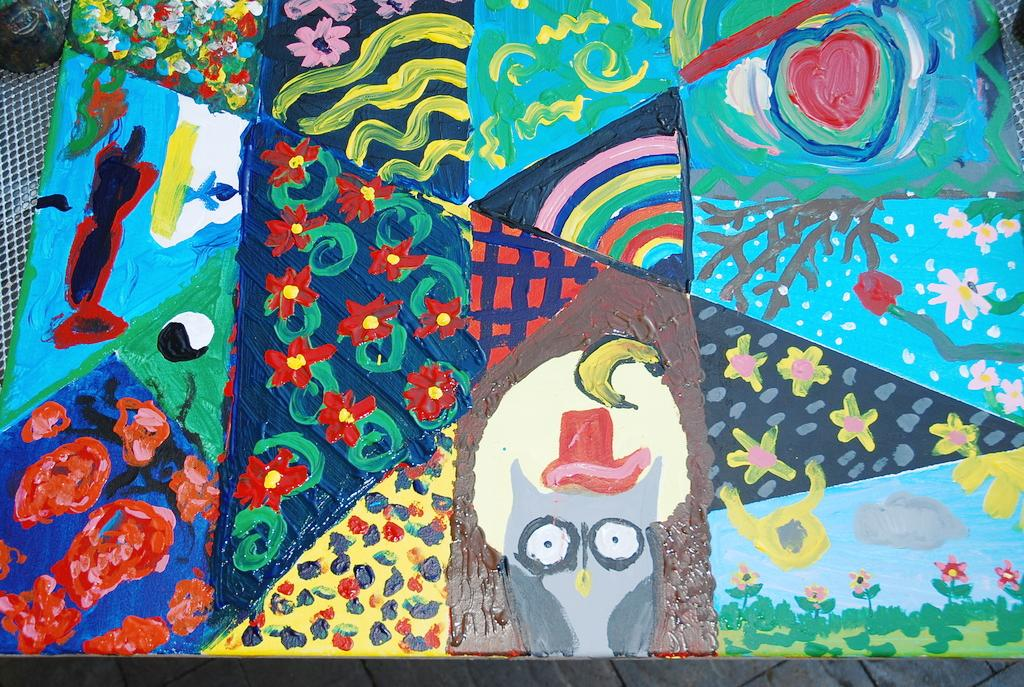Owl: (503, 456, 662, 656)
